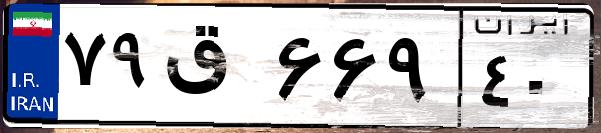0: (525, 38, 570, 115)
4: (475, 38, 525, 113)
6: (270, 28, 330, 110), (330, 28, 385, 110)
7: (57, 26, 110, 100)
9: (385, 28, 445, 110), (110, 28, 158, 98)
ق: (158, 20, 270, 120)
